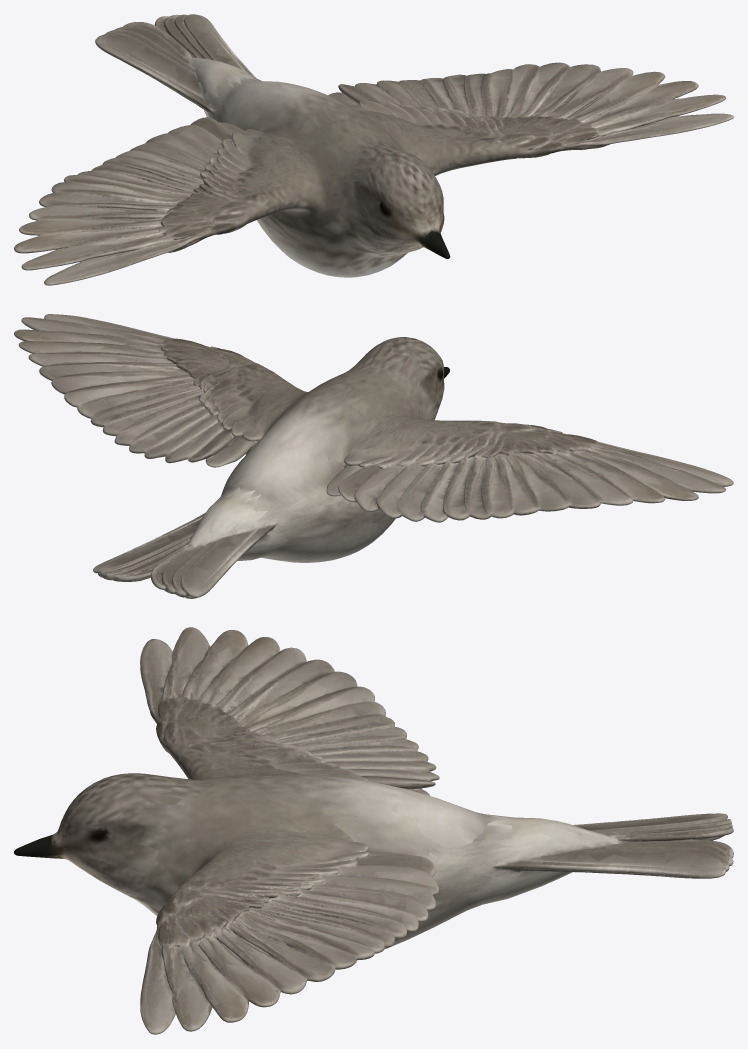
File: Muscicapa_striata.glb
The picture shows the model from 3 angles, top to bottom: view 1: azimuth 30°, elevation 25°; view 2: azimuth 150°, elevation 25°; view 3: azimuth 270°, elevation 25°; orthographic projection. The views are drawn at different scales.
Parts seen in each view (by area): view 1: orient; view 2: orient; view 3: orient.
Part boxes in pixels (x1=…): orient: x1=14, y1=14, x2=733, y2=285; orient: x1=14, y1=314, x2=733, y2=598; orient: x1=14, y1=627, x2=733, y2=1034.
Bounding box in the file's own units: 0.5 × 0.1045 × 0.3781.
Materials: 1 (1 with a texture image).
